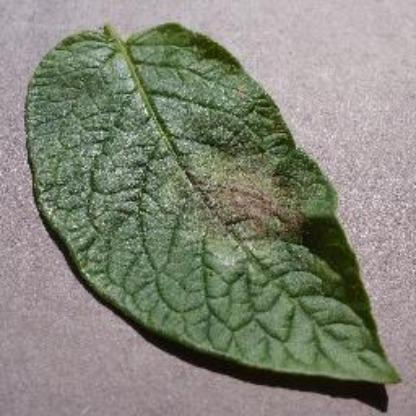Late-Blight: (19, 10, 411, 398)
